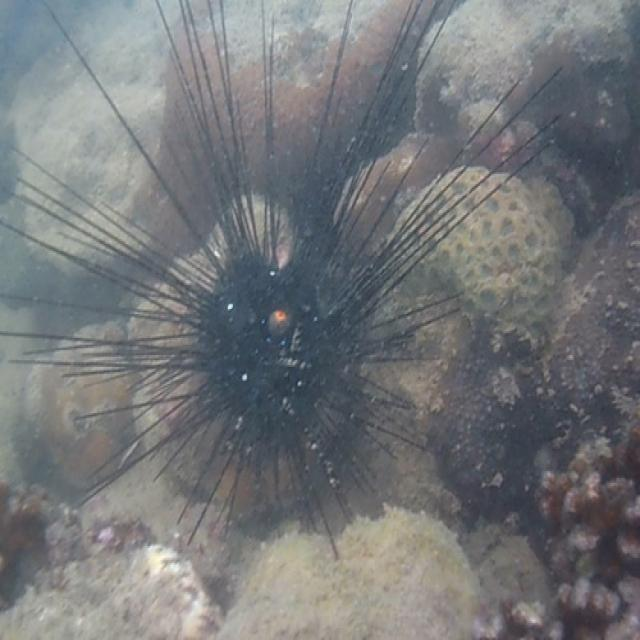Urchin: (3, 2, 570, 550)
